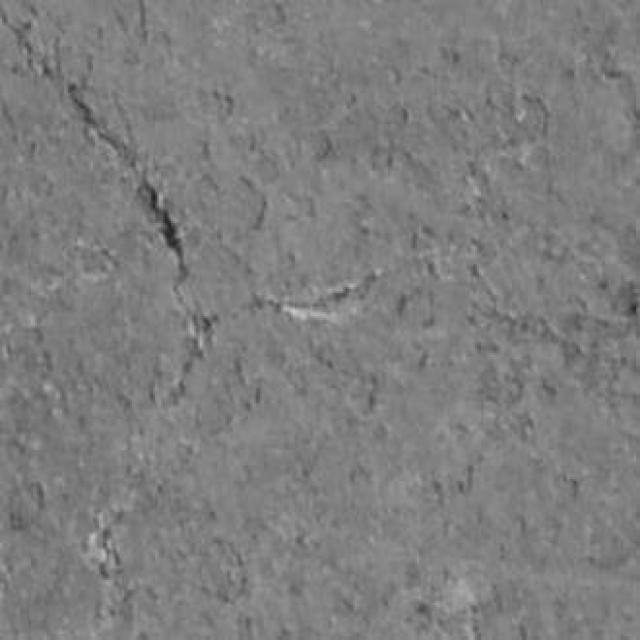crack: (0, 6, 219, 399), (255, 270, 383, 323)
